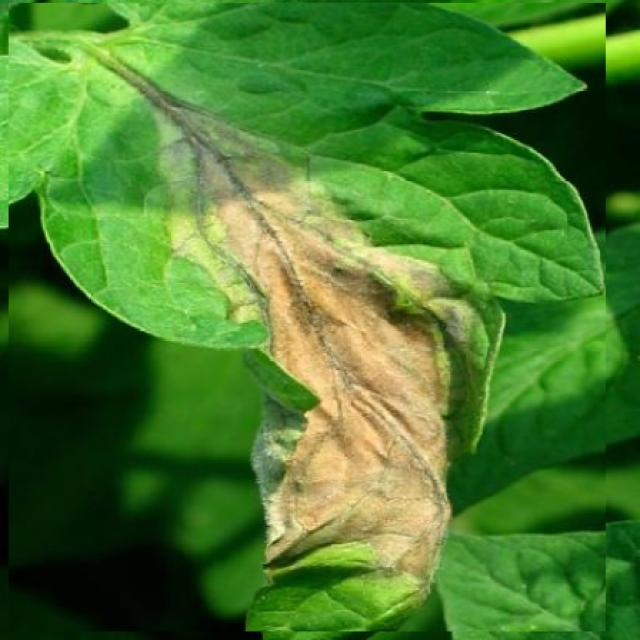Late Blight: (9, 3, 605, 631)
